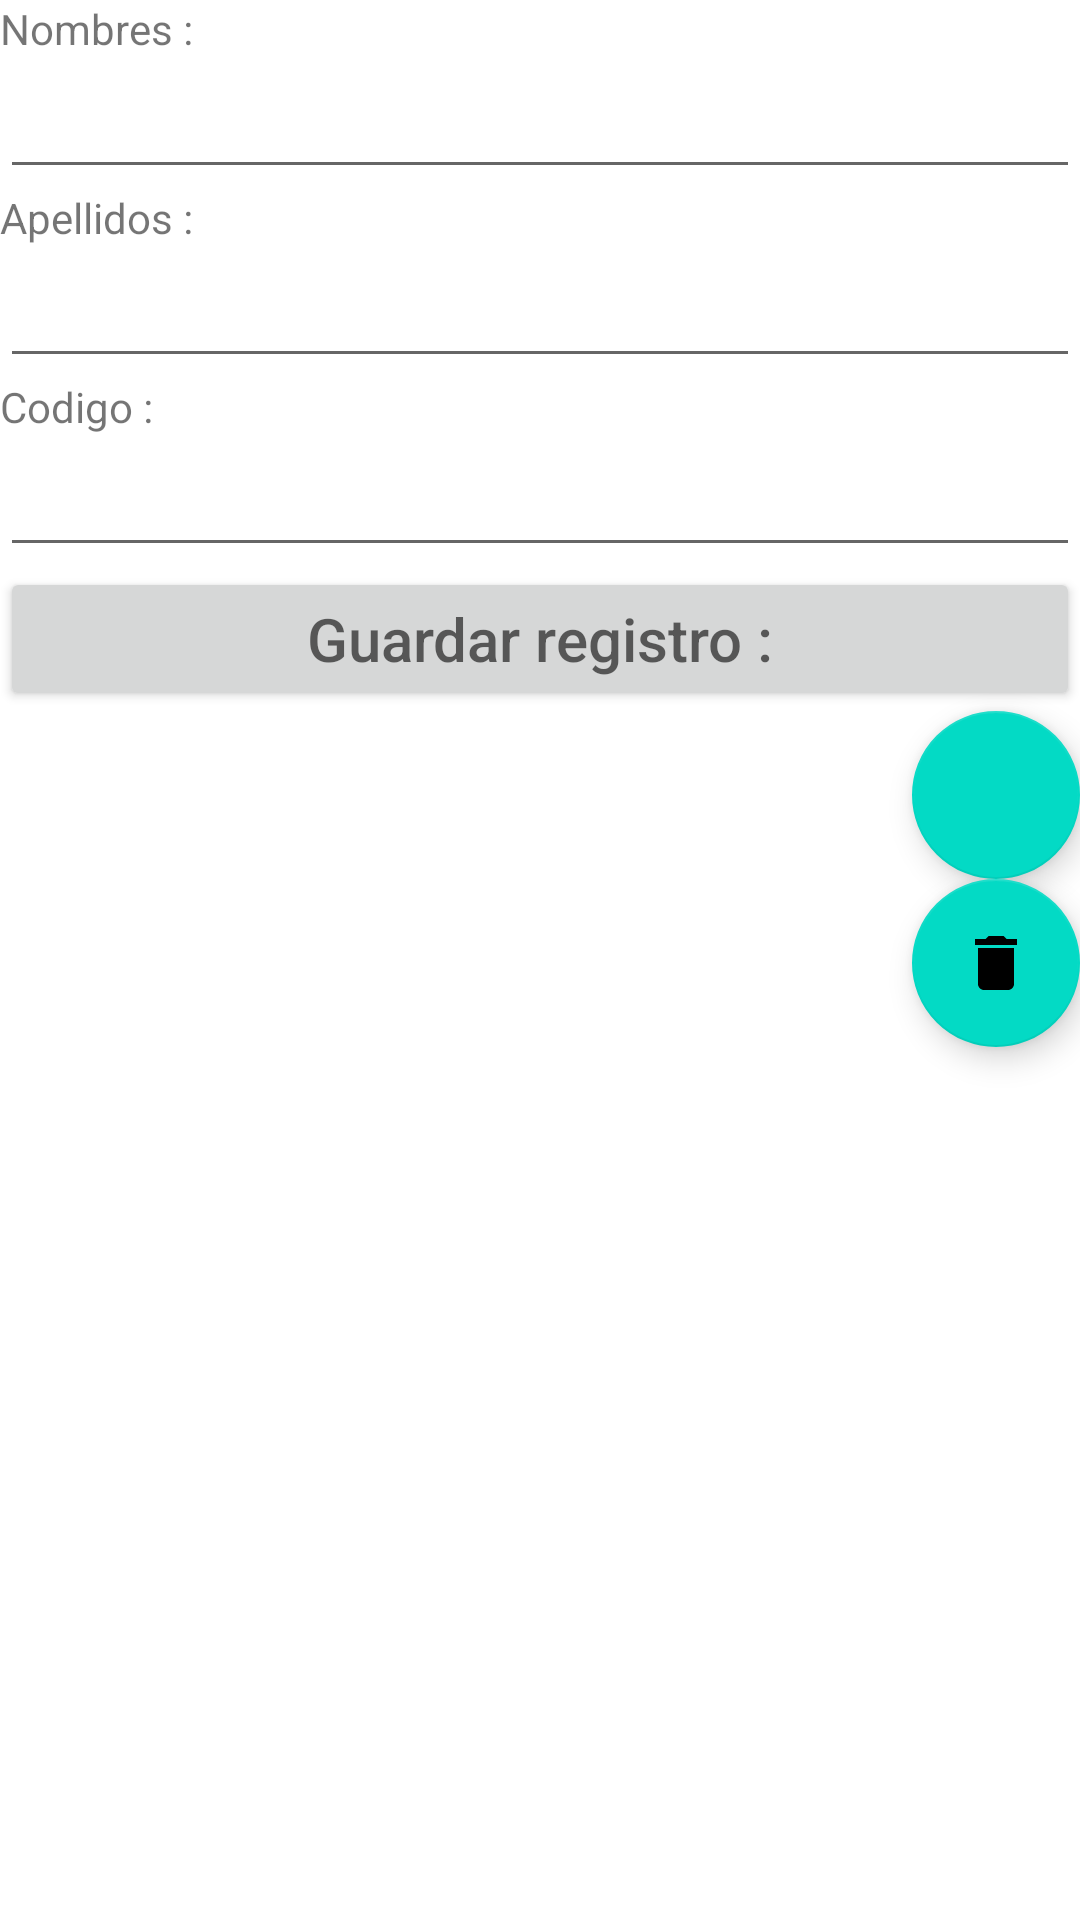

Icon click points for this 1080x1920 phone screenshot, format point (x, y):
delete: point (996, 963)
